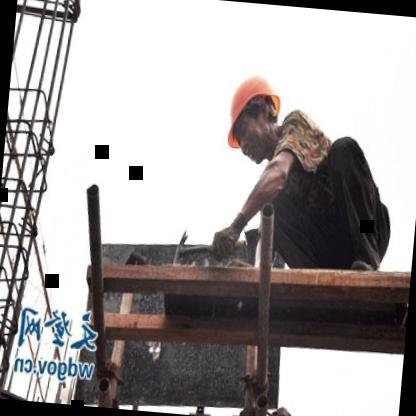helmet: (219, 56, 291, 167)
